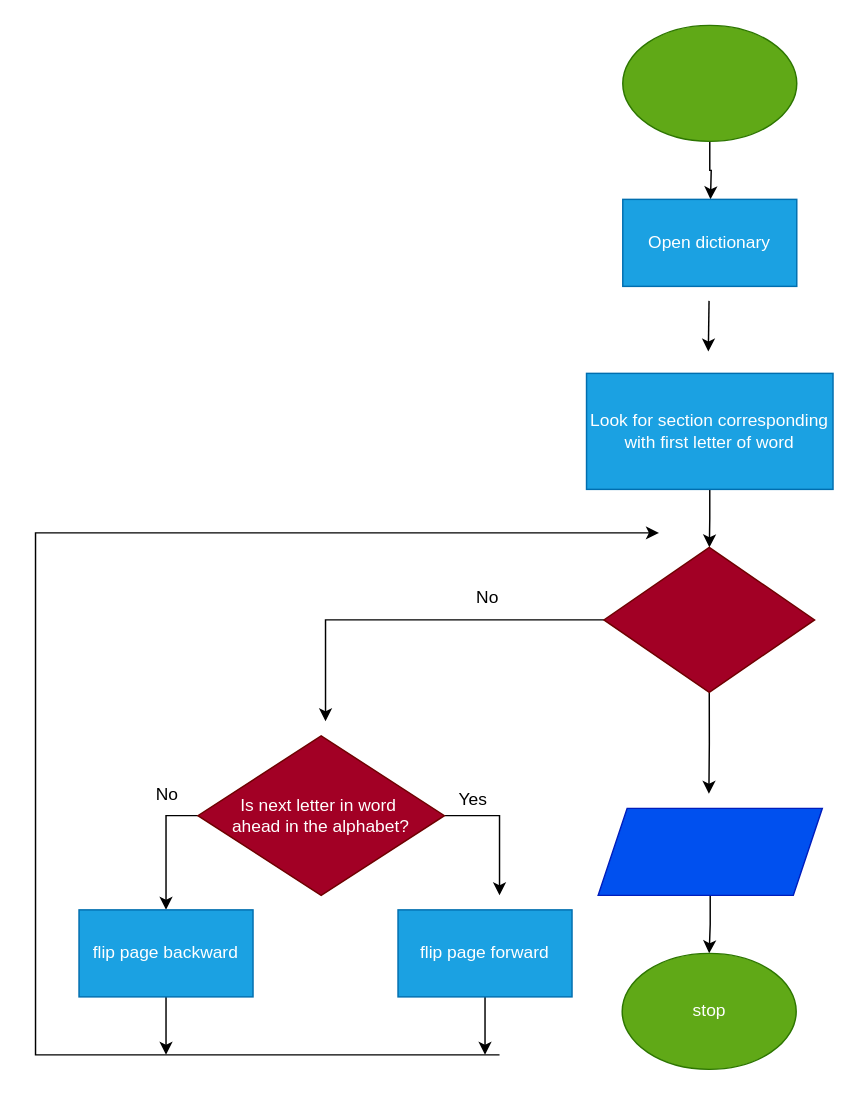
Some shapes in this 858 by 1095 pixel diagram are drawn without their labels. Here are the shapes that lost their labels. From the top down, the box of each, then its label:
(621, 24, 797, 141): start
(602, 546, 815, 692): Is word on page?
(597, 807, 822, 895): You found your word!
